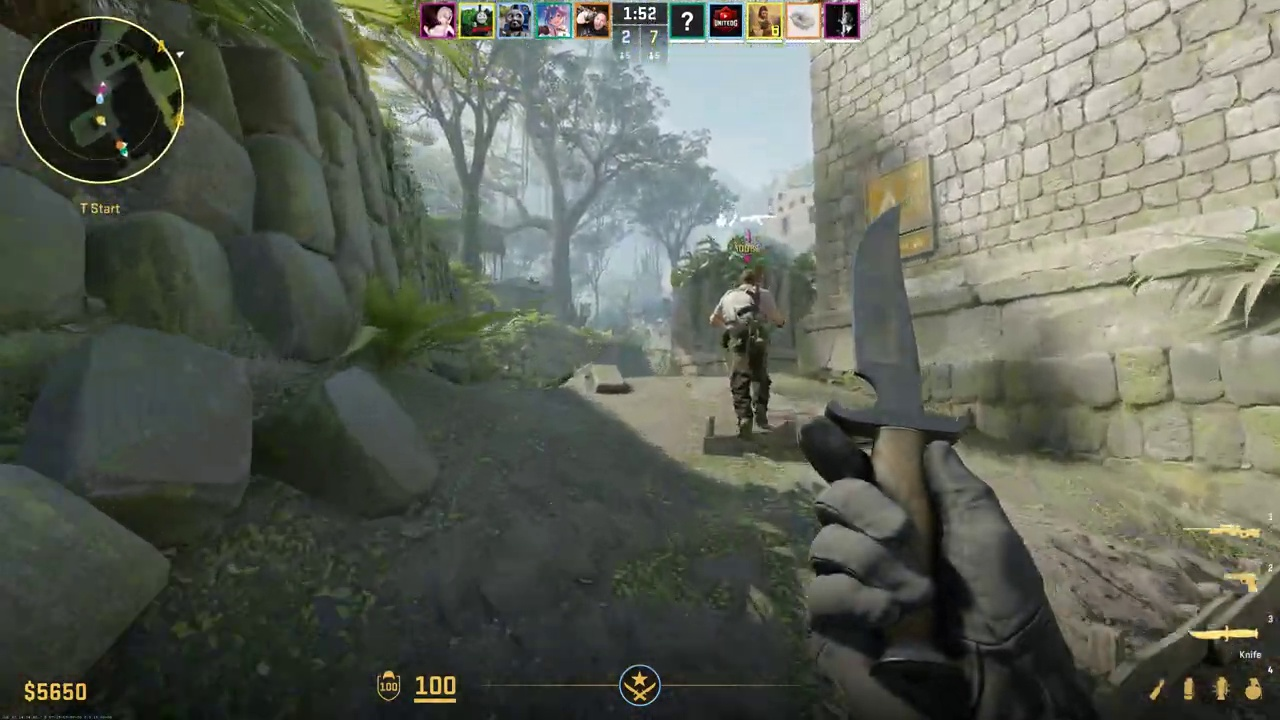Terrorist: (721, 268, 777, 437)
